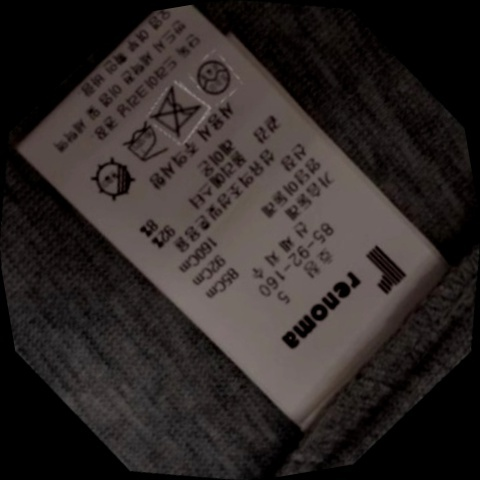DN_wash: (143, 79, 214, 145)
dry_clean_petrol_only: (187, 47, 244, 104)
iron_low: (113, 115, 176, 174)
line_dry_in_shade: (83, 149, 151, 211)
